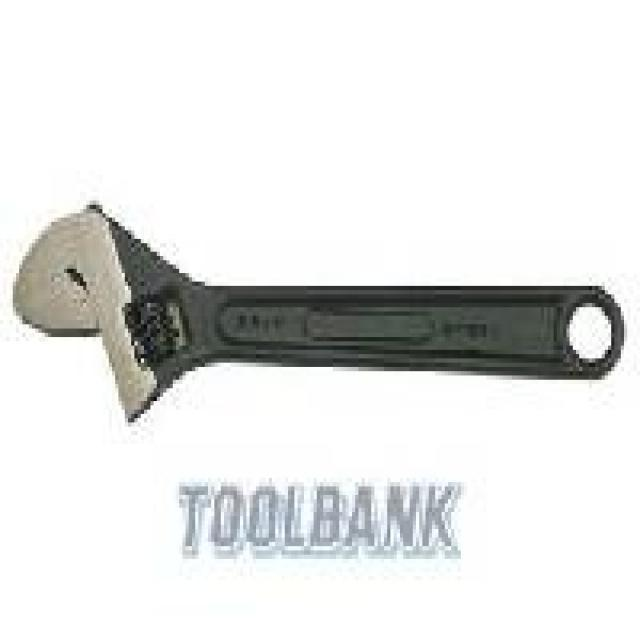wrench: (3, 195, 634, 436)
